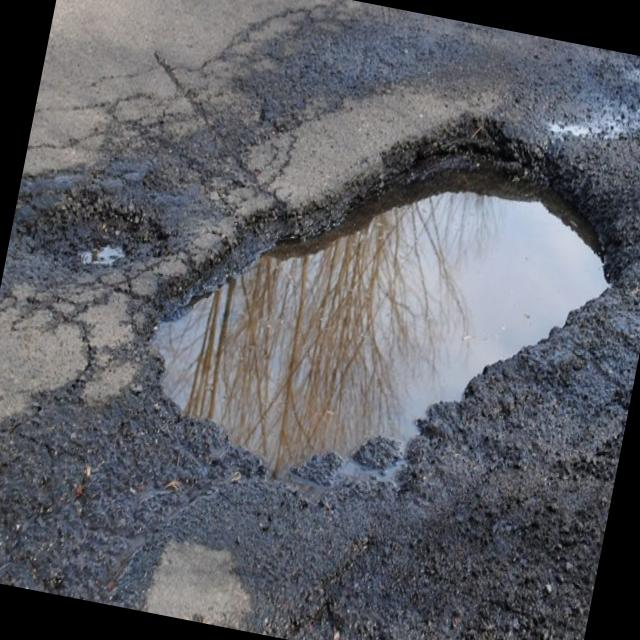Potholes: (98, 46, 640, 542), (7, 145, 182, 307)
